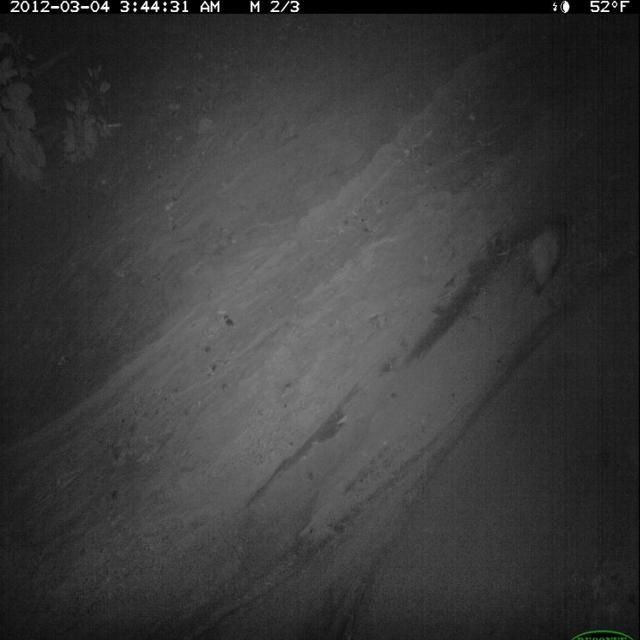opossum: (507, 215, 574, 317)
